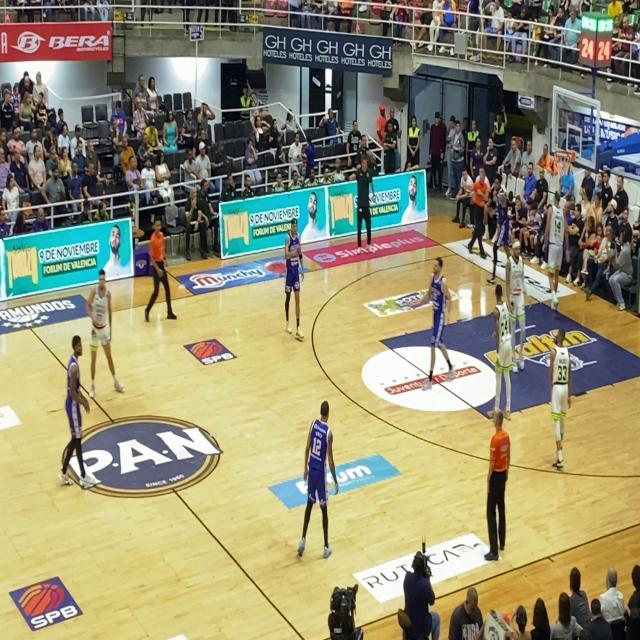referee: (472, 388, 510, 580), (140, 212, 174, 343)
team1: (84, 263, 125, 422), (505, 232, 538, 391), (544, 319, 576, 482), (489, 279, 524, 425), (541, 188, 571, 323)
team2: (48, 328, 94, 497), (296, 402, 338, 574), (419, 249, 457, 404), (281, 199, 306, 347)
ubasket: (552, 147, 573, 180)
